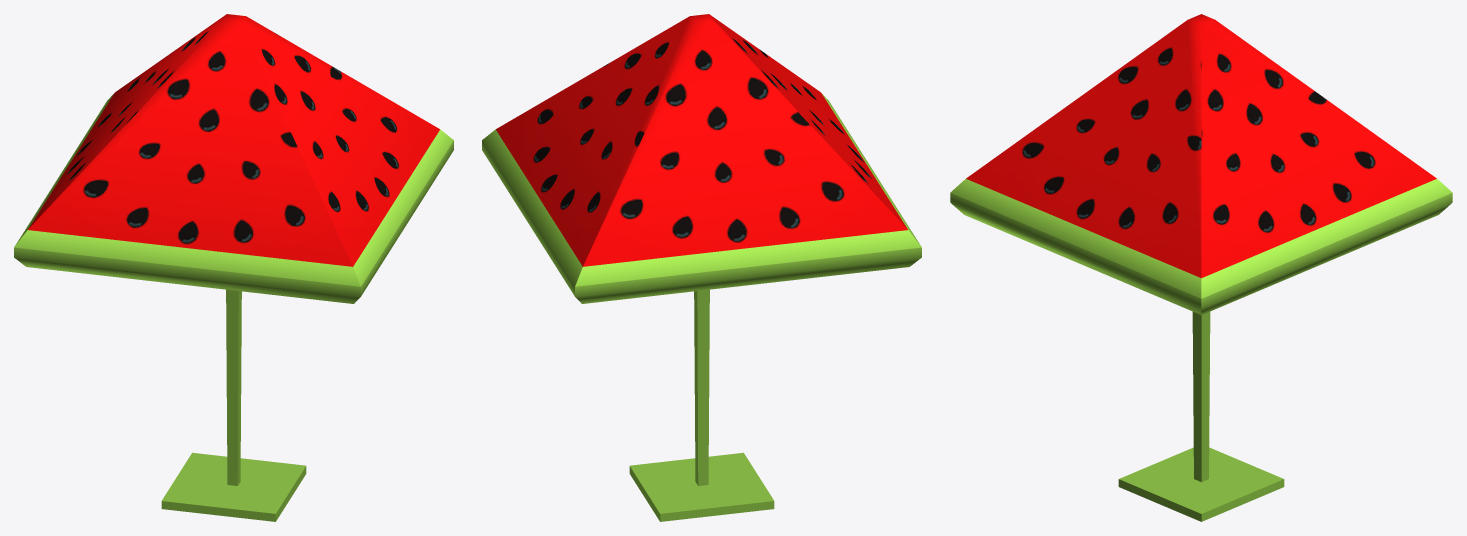
The model's file is watermelon-umbrella.glb.
The picture shows the model from 3 angles, left to right: view 1: azimuth 30°, elevation 25°; view 2: azimuth 150°, elevation 25°; view 3: azimuth 270°, elevation 25°; orthographic projection.
Visible parts, largest first — view 1: umbrella; view 2: umbrella; view 3: umbrella.
Boxes of the visible parts, bbox=[...] form: umbrella: bbox=[14, 14, 453, 521]; umbrella: bbox=[482, 14, 921, 521]; umbrella: bbox=[950, 14, 1452, 521].
Size of what is drawn, in the model's own units: 4.32 by 4.43 by 4.32.
3 materials, 1 textured.
